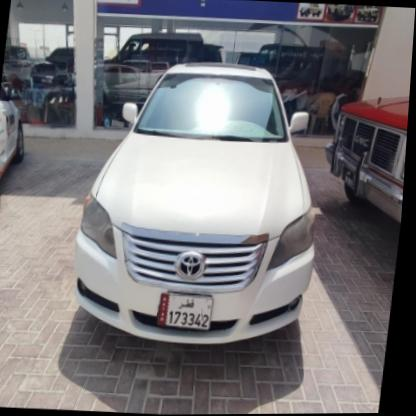np: (159, 293, 218, 333)
